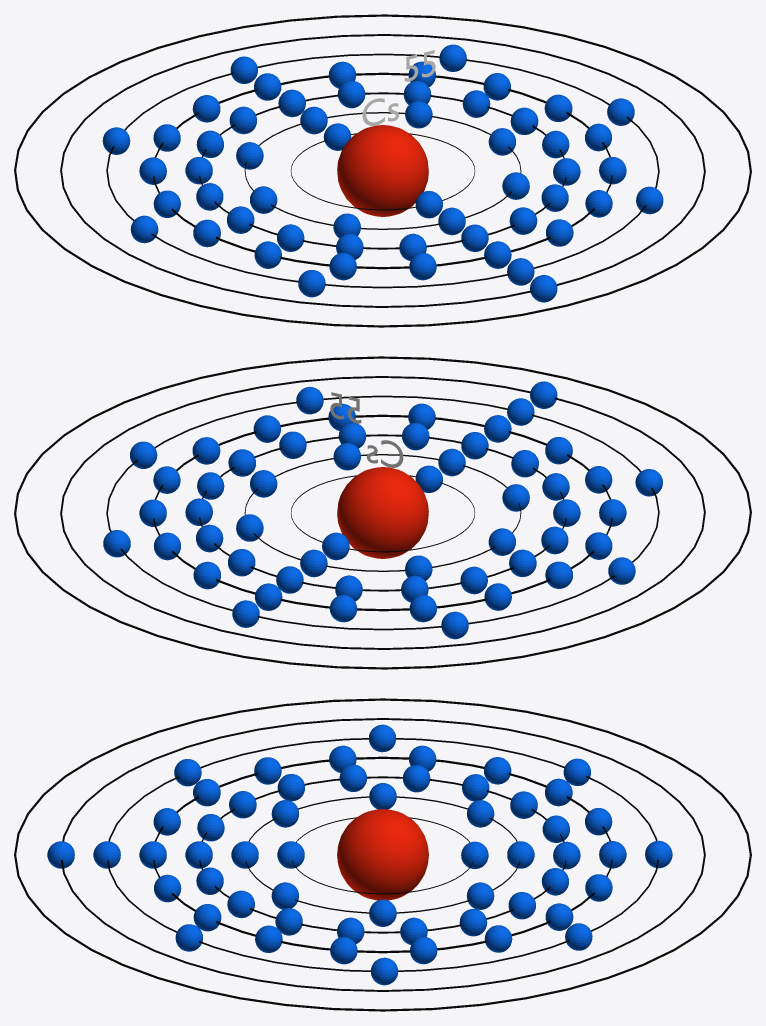
3 renders of one model, top to bottom at view 1: azimuth 30°, elevation 25°; view 2: azimuth 150°, elevation 25°; view 3: azimuth 270°, elevation 25°, orthographic.
Visible parts, largest first — view 1: Cs3, Cs4, Proton, Cs5, Cs2, n7, n6, n5, n4, Cs1, n3, n2 (+1 smaller); view 2: Cs3, Cs4, Proton, Cs5, Cs2, n7, n6, n5, n4, Cs1, n3, n2 (+1 smaller); view 3: Cs4, Cs3, Proton, Cs2, Cs5, n7, n6, n5, n4, Cs1, n3, n2 (+2 smaller).
Boxes of the visible parts, x1,y1,x2,y2 form: Cs3: [185, 80, 580, 260]; Cs4: [139, 61, 626, 280]; Proton: [337, 125, 428, 216]; Cs5: [102, 44, 663, 297]; Cs2: [236, 101, 529, 238]; n7: [14, 14, 751, 327]; n6: [60, 34, 705, 307]; n5: [106, 53, 659, 288]; n4: [153, 72, 612, 269]; Cs1: [323, 123, 442, 218]; n3: [199, 92, 566, 249]; n2: [244, 112, 521, 229]; Cs3: [185, 422, 580, 602]; Cs4: [139, 403, 626, 622]; Proton: [337, 467, 428, 558]; Cs5: [103, 386, 662, 639]; Cs2: [236, 443, 529, 580]; n7: [14, 356, 751, 669]; n6: [60, 376, 705, 649]; n5: [106, 395, 659, 630]; n4: [153, 414, 612, 611]; Cs1: [322, 465, 442, 560]; n3: [199, 434, 566, 591]; n2: [244, 454, 521, 571]; Cs4: [139, 745, 626, 964]; Cs3: [185, 764, 580, 944]; Proton: [337, 809, 428, 900]; Cs2: [231, 783, 534, 926]; Cs5: [93, 724, 672, 985]; n7: [14, 698, 751, 1011]; n6: [61, 718, 705, 991]; n5: [107, 738, 658, 971]; n4: [153, 756, 612, 953]; Cs1: [277, 841, 488, 869]; n3: [199, 776, 566, 933]; n2: [245, 796, 520, 913].
Size of the model in its own units: 802 by 180 by 802.
